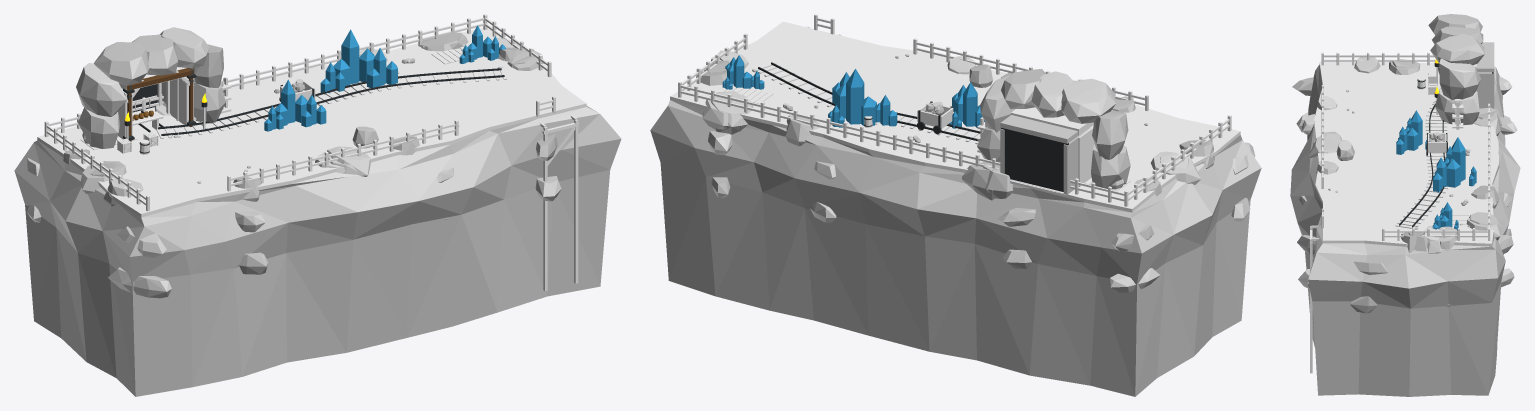
File: crystal_workings.glb
The picture shows the model from 3 angles, left to right: view 1: azimuth 30°, elevation 25°; view 2: azimuth 150°, elevation 25°; view 3: azimuth 270°, elevation 25°; orthographic projection. The views are drawn at different scales.
Parts seen in each view (by area): view 1: crystal_workings_Mine_Rock, crystal_workings_Mine_Earth, crystal_workings_Mine_Wood, crystal_workings_Mine_WoodLight, crystal_workings_G04_crystal, crystal_workings_Mine_Metal, crystal_workings_G04_wood.002; view 2: crystal_workings_Mine_Rock, crystal_workings_Mine_Earth, crystal_workings_Mine_Wood, crystal_workings_Mine_WoodLight, crystal_workings_G04_crystal, crystal_workings_Mine_Metal; view 3: crystal_workings_Mine_Rock, crystal_workings_Mine_Earth, crystal_workings_Mine_Wood, crystal_workings_G04_crystal, crystal_workings_Mine_WoodLight, crystal_workings_Mine_Metal, crystal_workings_Mine_Wood.001.
Part boxes in pixels (box(x1,y1,x2,y2)): crystal_workings_Mine_Rock: box(14, 27, 621, 396); crystal_workings_Mine_Earth: box(37, 26, 586, 217); crystal_workings_Mine_Wood: box(44, 14, 578, 291); crystal_workings_Mine_WoodLight: box(46, 17, 578, 205); crystal_workings_G04_crystal: box(264, 25, 505, 131); crystal_workings_Mine_Metal: box(123, 68, 504, 140); crystal_workings_G04_wood.002: box(126, 68, 193, 141); crystal_workings_Mine_Rock: box(650, 50, 1261, 396); crystal_workings_Mine_Earth: box(670, 21, 1240, 212); crystal_workings_Mine_Wood: box(678, 14, 1231, 206); crystal_workings_Mine_WoodLight: box(680, 17, 1229, 201); crystal_workings_G04_crystal: box(722, 55, 984, 129); crystal_workings_Mine_Metal: box(758, 62, 1068, 191); crystal_workings_Mine_Rock: box(1290, 14, 1520, 396); crystal_workings_Mine_Earth: box(1314, 61, 1498, 246); crystal_workings_Mine_Wood: box(1310, 52, 1490, 373); crystal_workings_G04_crystal: box(1396, 110, 1476, 230); crystal_workings_Mine_WoodLight: box(1310, 55, 1489, 244); crystal_workings_Mine_Metal: box(1399, 63, 1493, 227); crystal_workings_Mine_Wood.001: box(1428, 73, 1460, 124).
Bounding box in the file's own units: 46.22 × 23.62 × 22.16.
